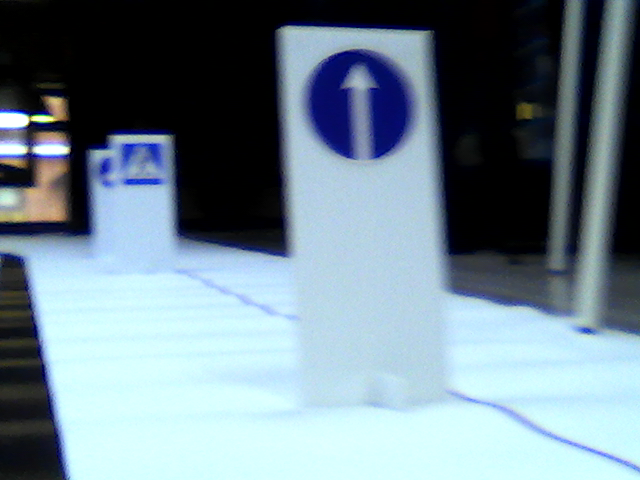forw: (302, 49, 413, 165)
pesh: (117, 142, 168, 187)
